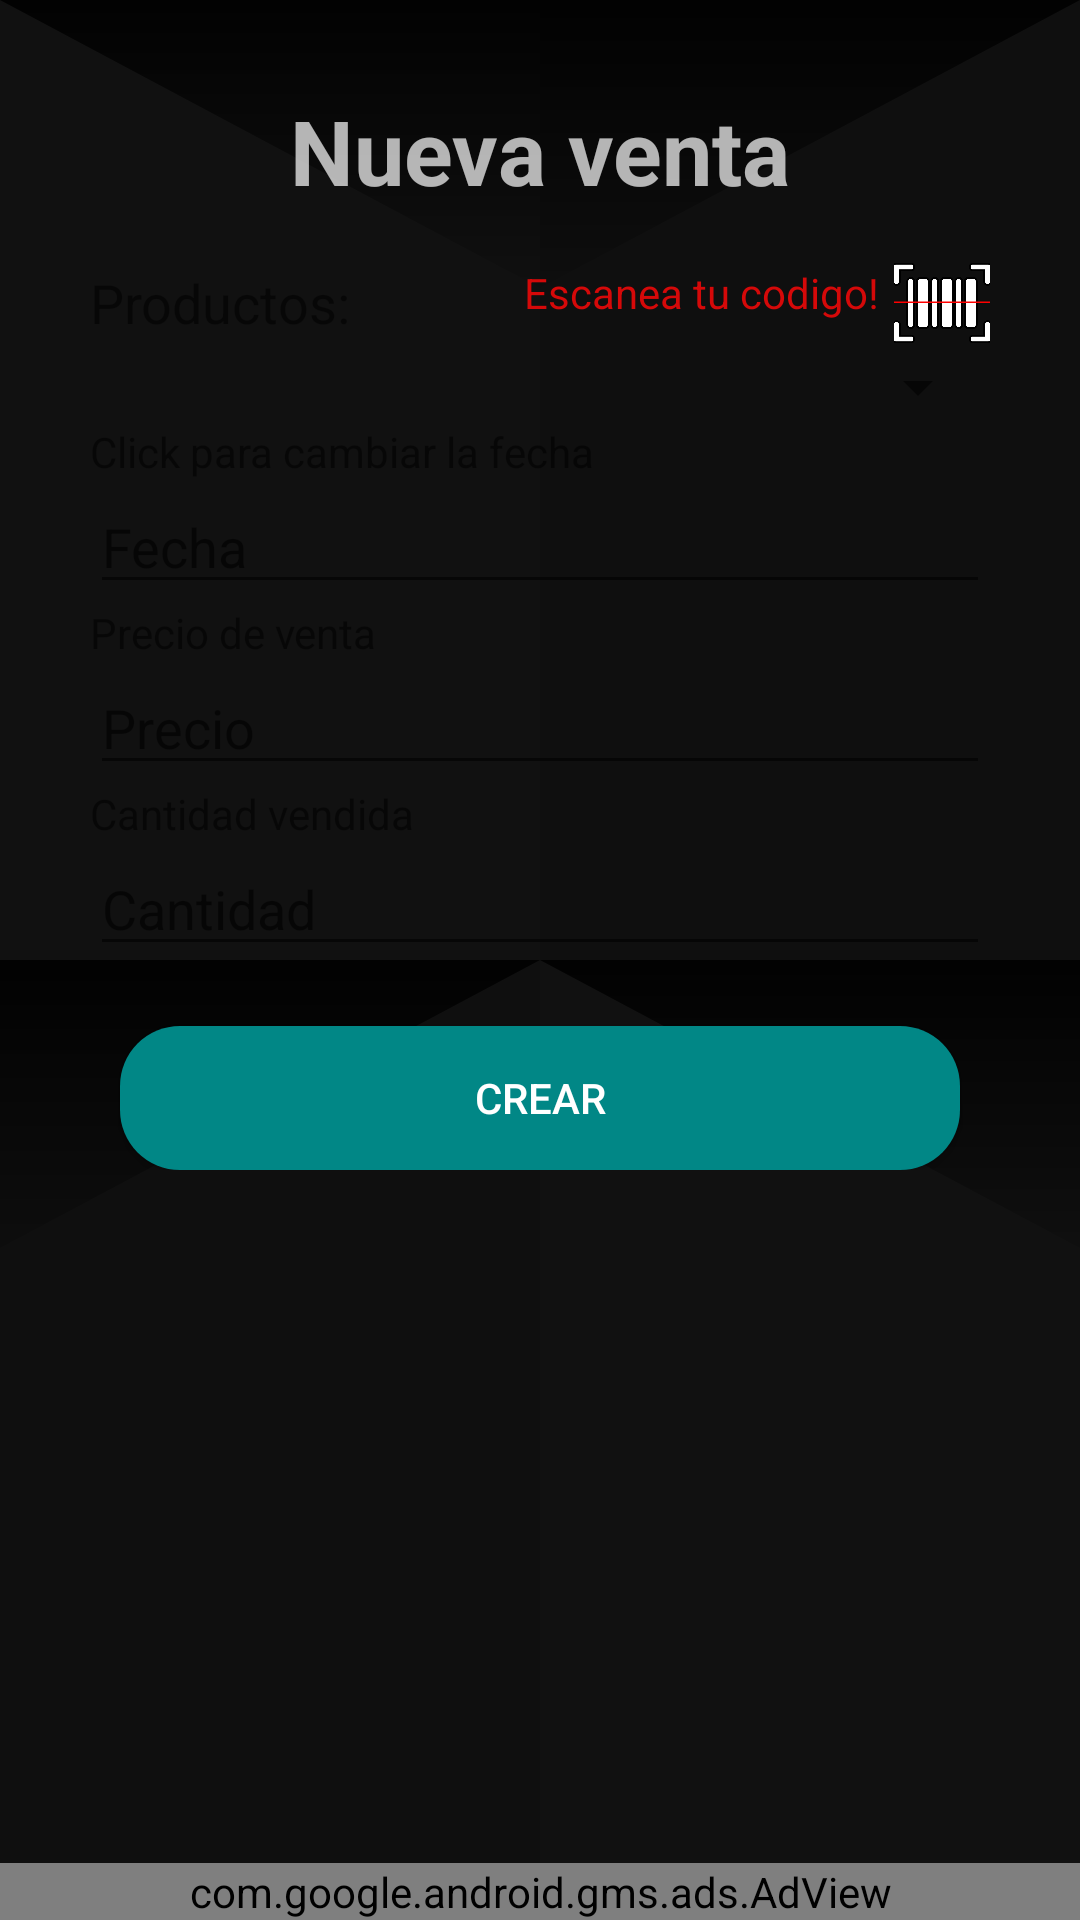

Icons on this 1080 x 1920 Android screen, each with its box as bbox(x1, y1, x2, y2):
barcode: bbox(894, 264, 990, 342)
